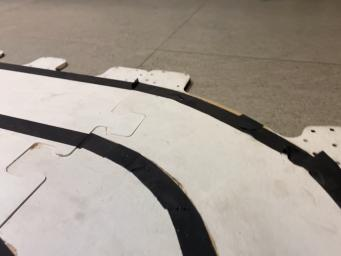street: (0, 69, 340, 255), (0, 69, 340, 255), (0, 69, 340, 255), (0, 69, 340, 255), (0, 69, 340, 255), (0, 69, 340, 255), (0, 62, 341, 208), (0, 62, 341, 208), (0, 62, 341, 208), (0, 62, 341, 208), (0, 62, 341, 208), (0, 62, 341, 208)
